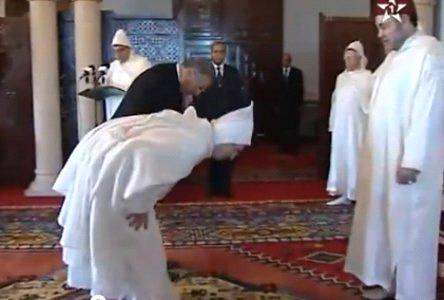ruku: (52, 98, 263, 300)
